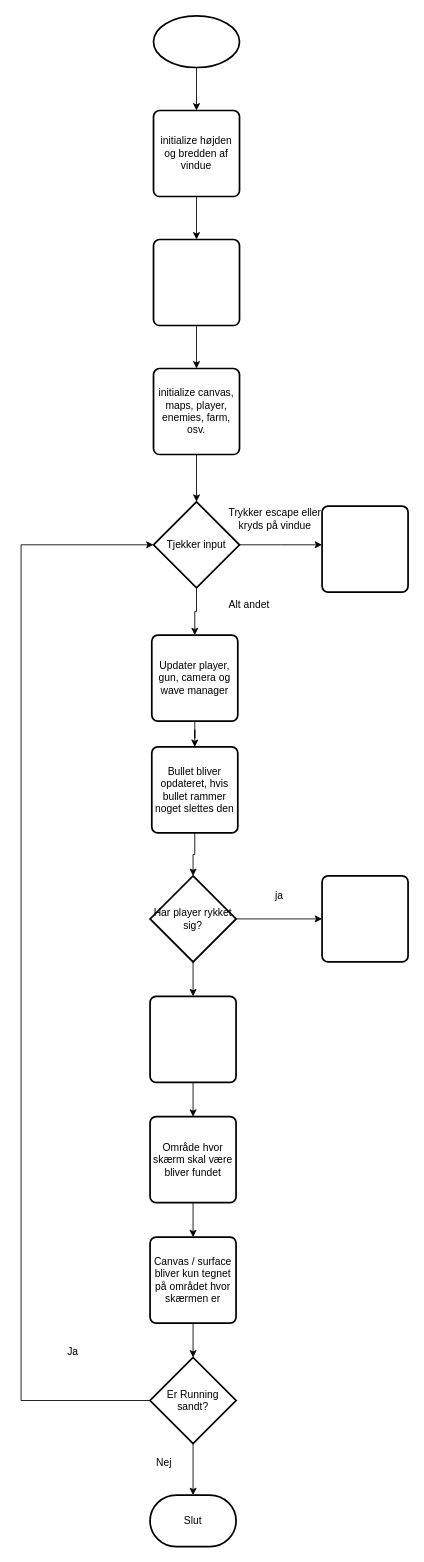
Image size: 424x1562. Some labels were removed from this diagram. Each missing label, with the centre of its shape:
"Finder forstørrelse faktor af pixels" belongs at (x=196, y=282).
"Map, player, gun osv. bliver tegnet" belongs at (x=192, y=1039).
"Running bliver falsk" belongs at (x=364, y=549).
"Start" belongs at (x=196, y=41).
"start wave" belongs at (x=364, y=918).
